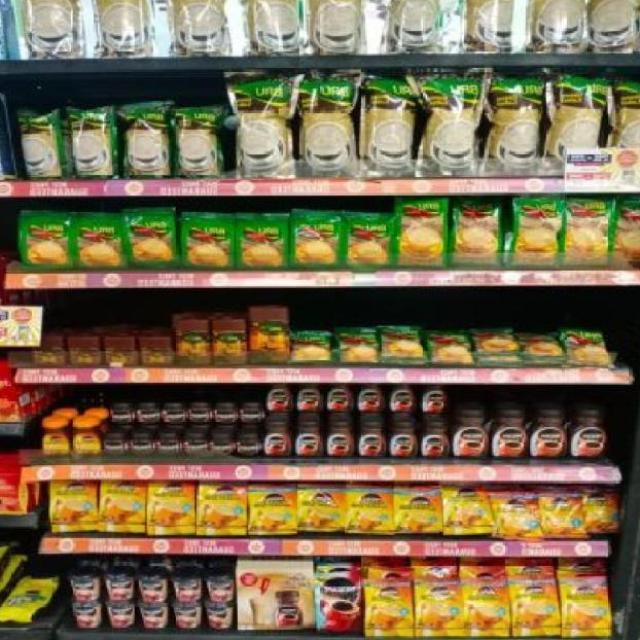Coffee: (511, 575, 560, 636), (561, 576, 610, 637), (415, 579, 462, 637), (464, 578, 510, 637), (365, 580, 413, 636), (199, 482, 247, 535), (317, 579, 363, 632), (149, 482, 194, 535), (445, 486, 491, 536), (100, 483, 145, 532), (252, 485, 295, 535), (344, 486, 391, 531), (52, 482, 95, 530), (452, 408, 491, 460), (394, 488, 439, 533), (298, 485, 342, 530), (567, 408, 604, 460), (495, 494, 537, 539), (528, 408, 564, 459), (541, 493, 580, 537), (490, 408, 525, 457), (416, 419, 450, 458), (584, 494, 616, 535), (325, 421, 357, 456), (292, 422, 322, 457), (388, 420, 416, 457), (42, 420, 70, 455), (357, 421, 385, 456), (72, 421, 99, 456), (263, 421, 289, 457), (389, 385, 416, 412), (358, 384, 382, 412), (298, 384, 321, 412), (327, 385, 351, 411), (268, 386, 292, 412), (422, 386, 445, 413), (102, 432, 129, 455), (129, 432, 155, 454), (208, 434, 234, 456), (187, 402, 212, 424), (214, 402, 239, 424), (108, 403, 133, 425), (235, 433, 260, 455), (162, 404, 188, 424), (183, 433, 209, 453), (157, 433, 181, 454), (137, 403, 159, 425), (241, 403, 262, 424)
